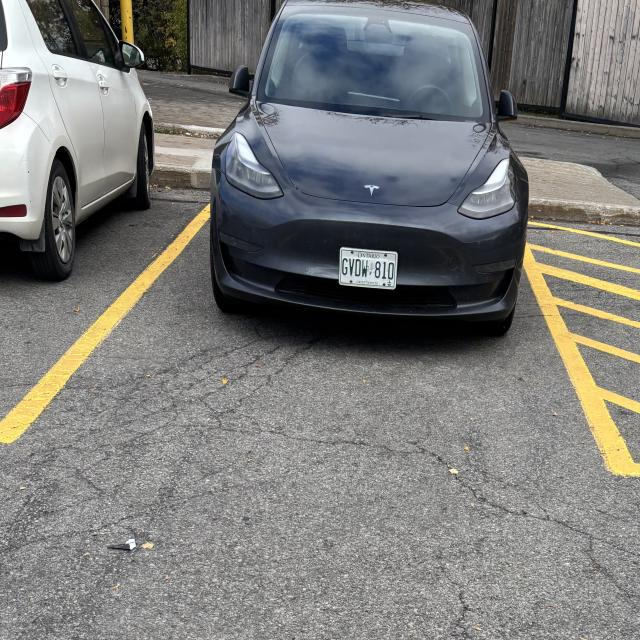plaque: (340, 248, 397, 289)
